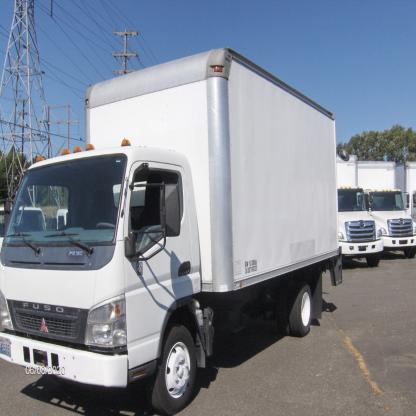truck: (1, 48, 337, 409)
